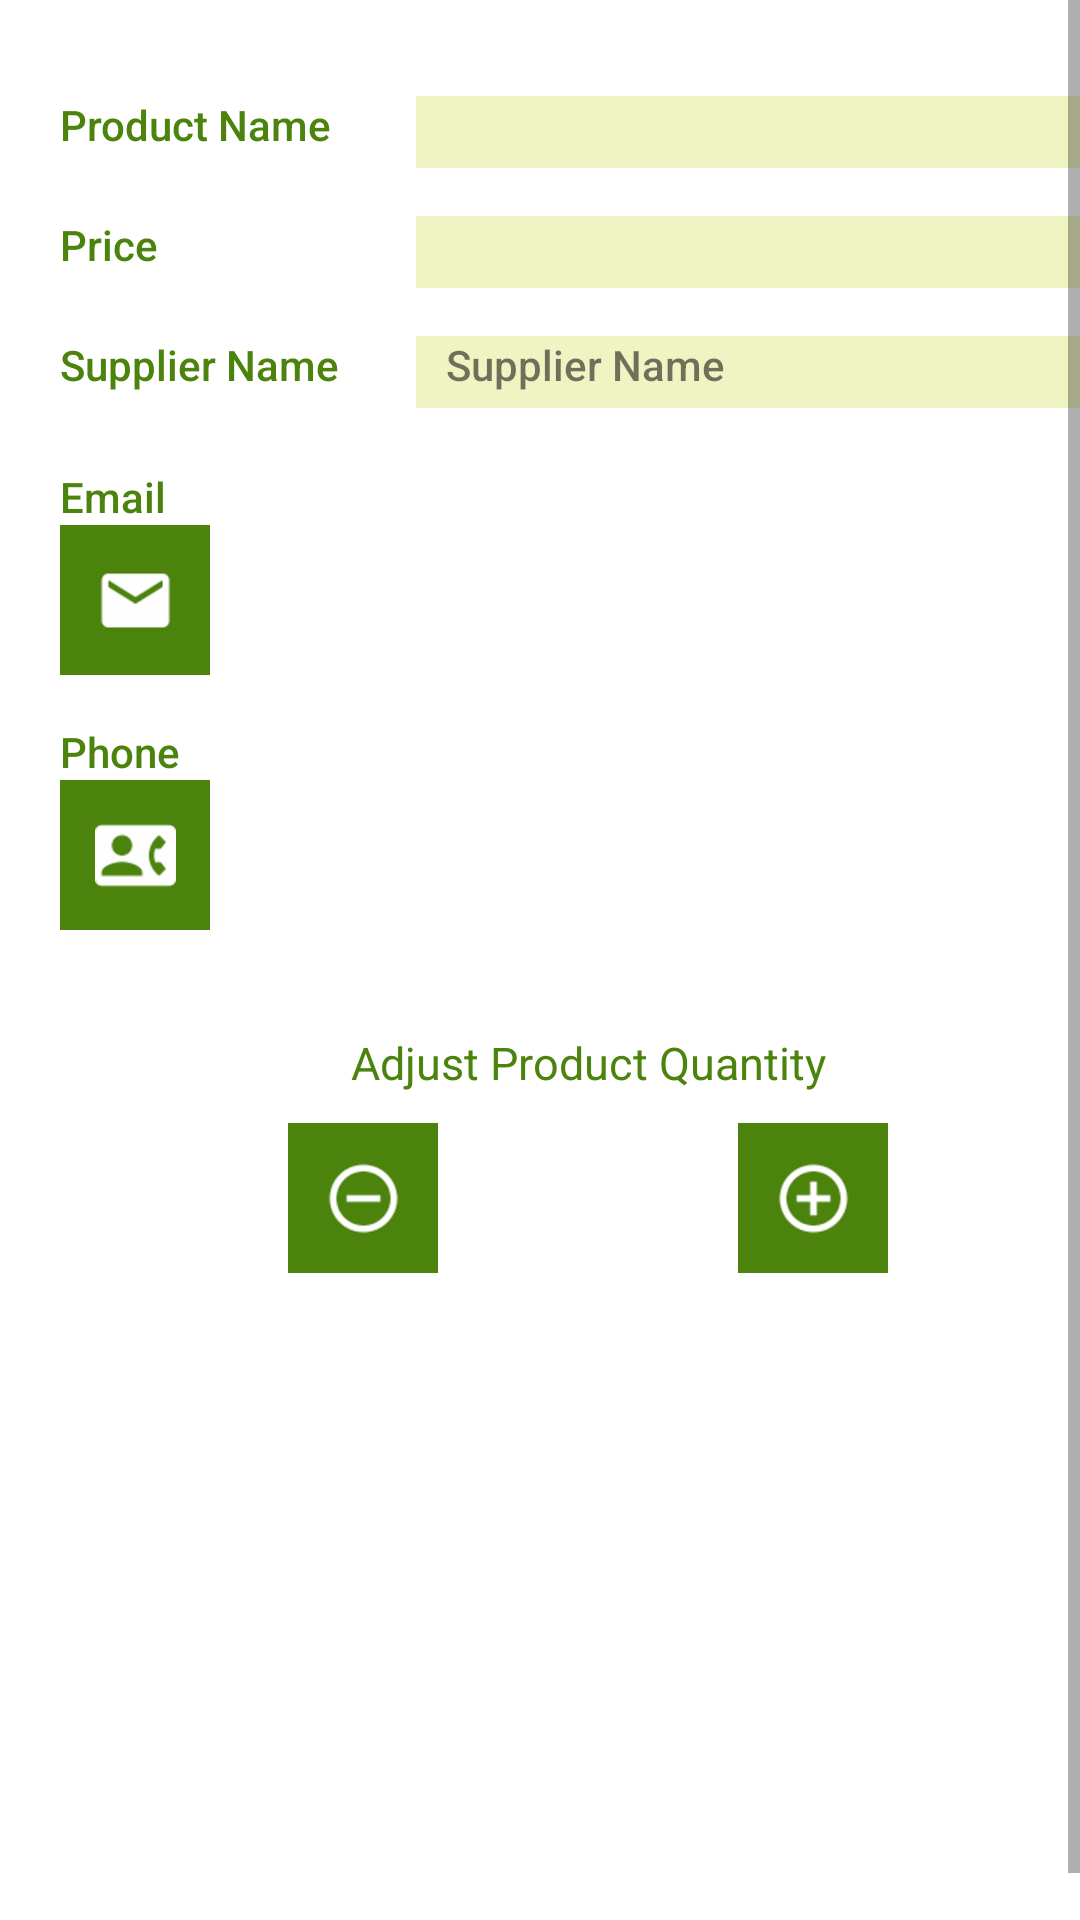

Point at icon controls on the screen. Image size 1080 x 1920, points as (x,y).
add circle: (813,1198)
remove circle: (363,1198)
